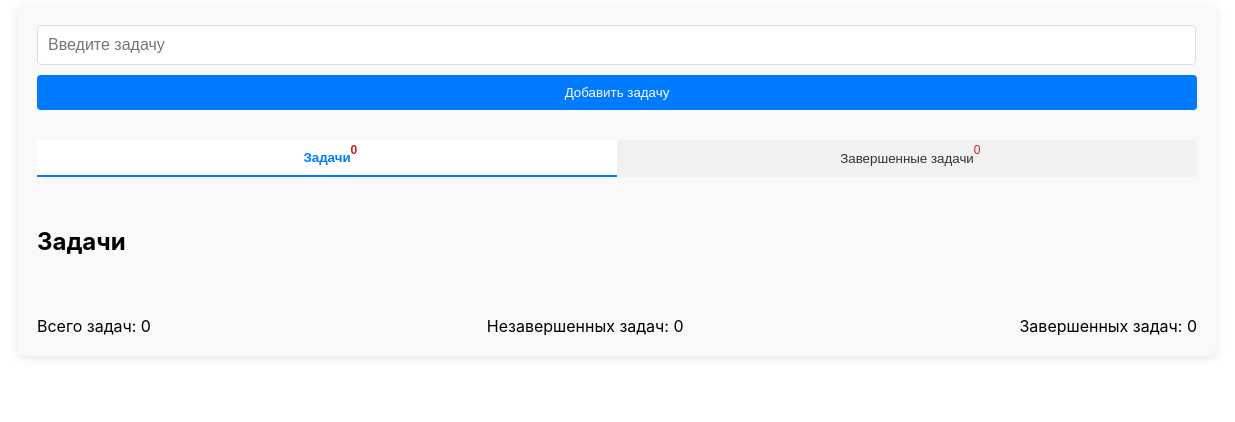
Test: ToDoList Component › should delete a task
The image size is (1235, 422).
Type "Задача для удаления" into the field with placeholder "Введите задачу" at (616, 45), box [37,25,1196,65]
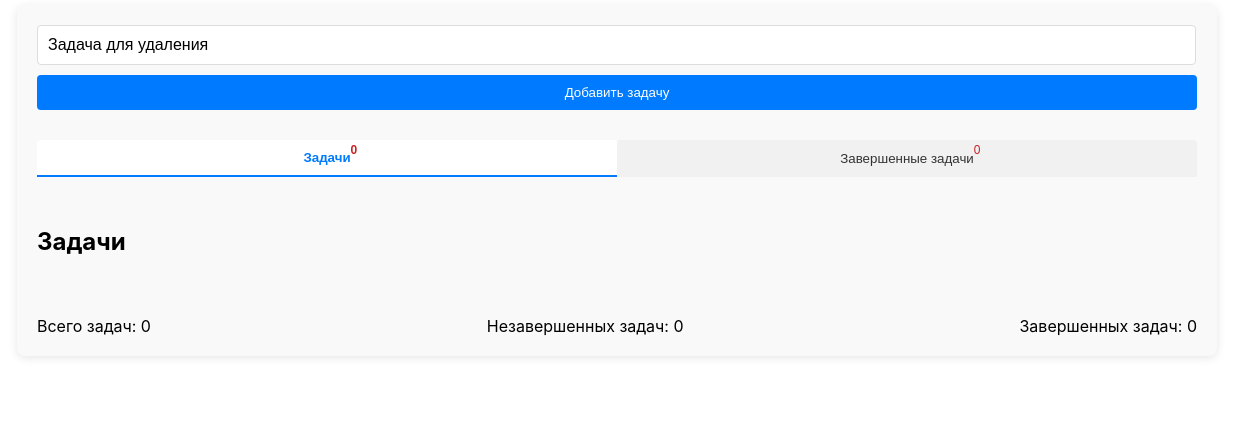
Click the button "Добавить задачу" at (617, 92), box [37,75,1197,110]
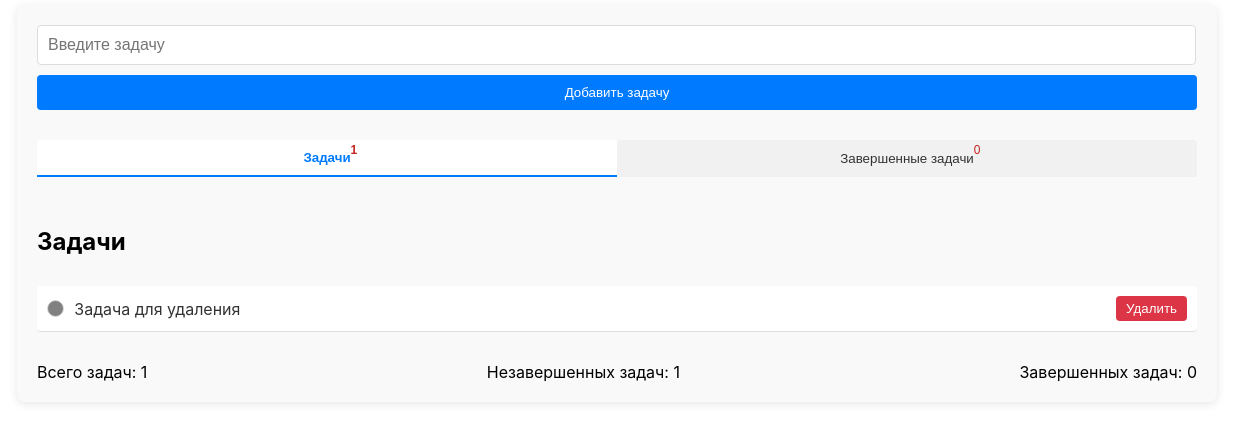
Click the button "Удалить" at (1152, 308), box [1116,296,1187,321]
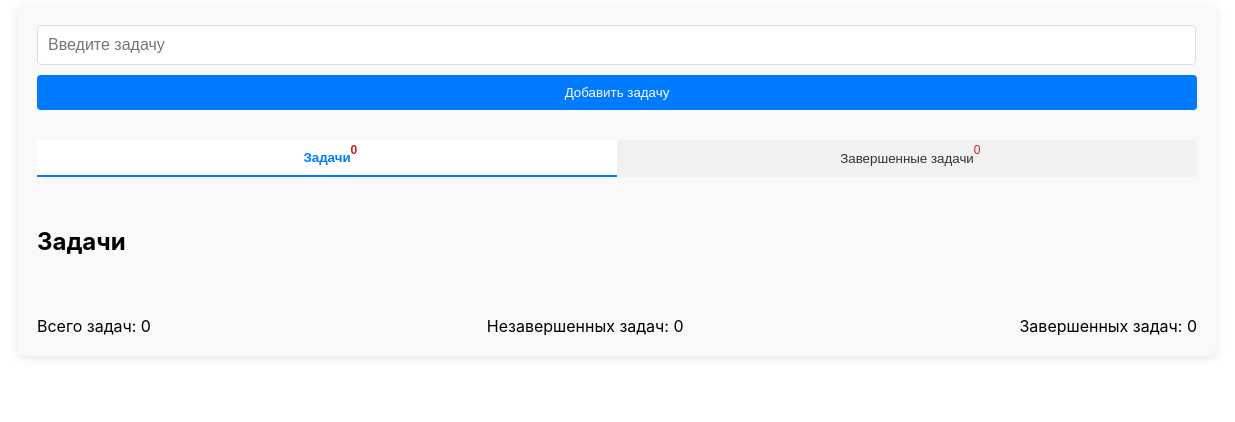
expect the text "Задача для удаления" is gone: met
